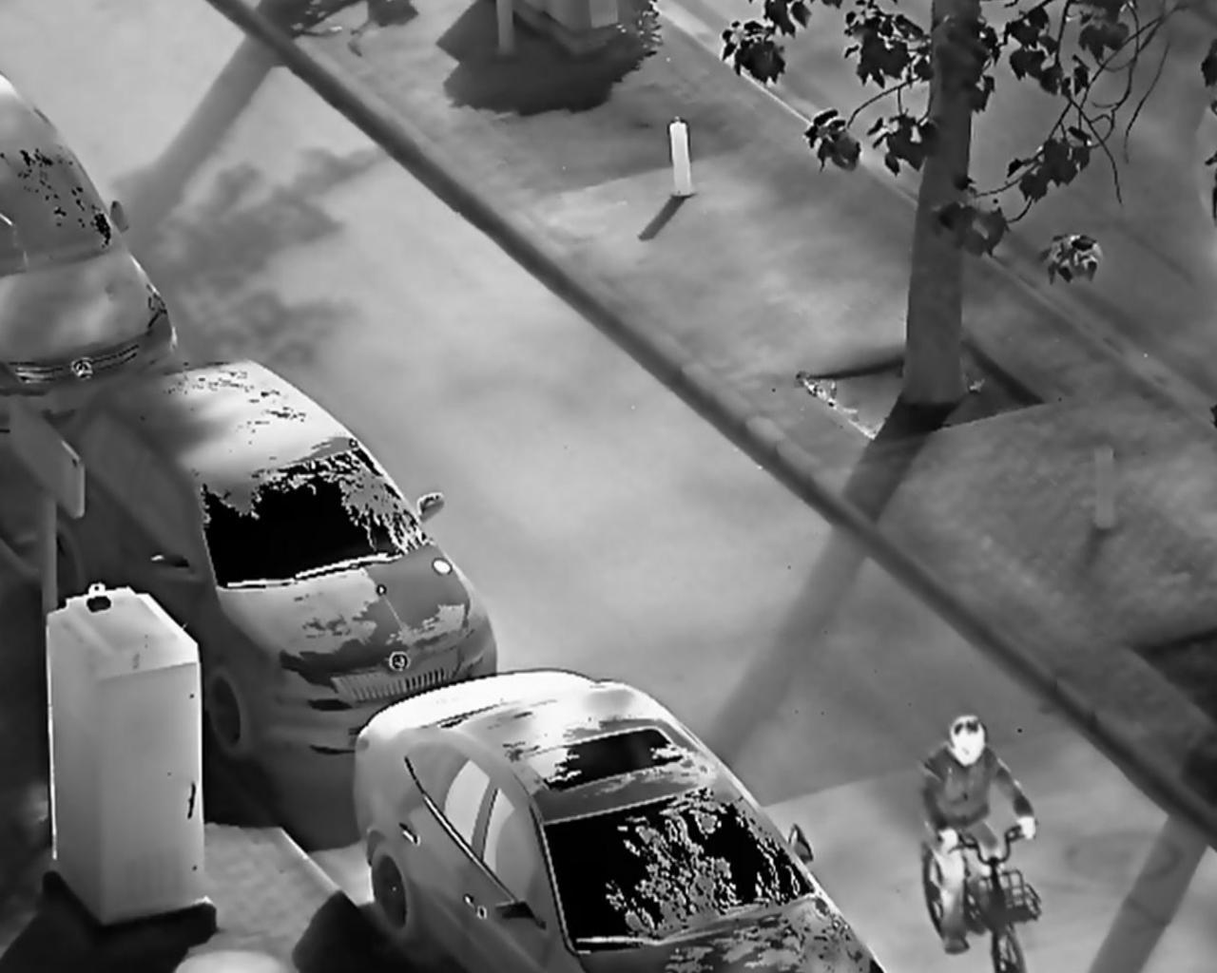person: (918, 713, 1041, 959)
